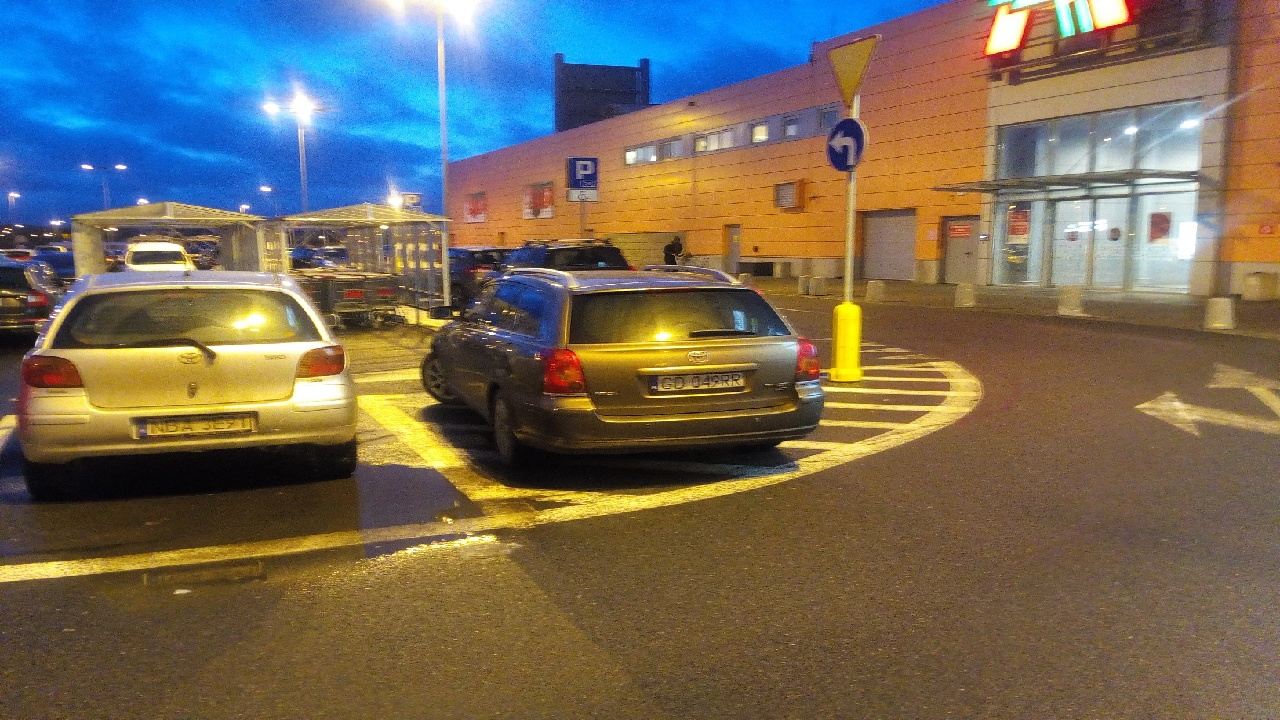A7: (827, 35, 879, 107)
D18: (568, 156, 598, 188)
